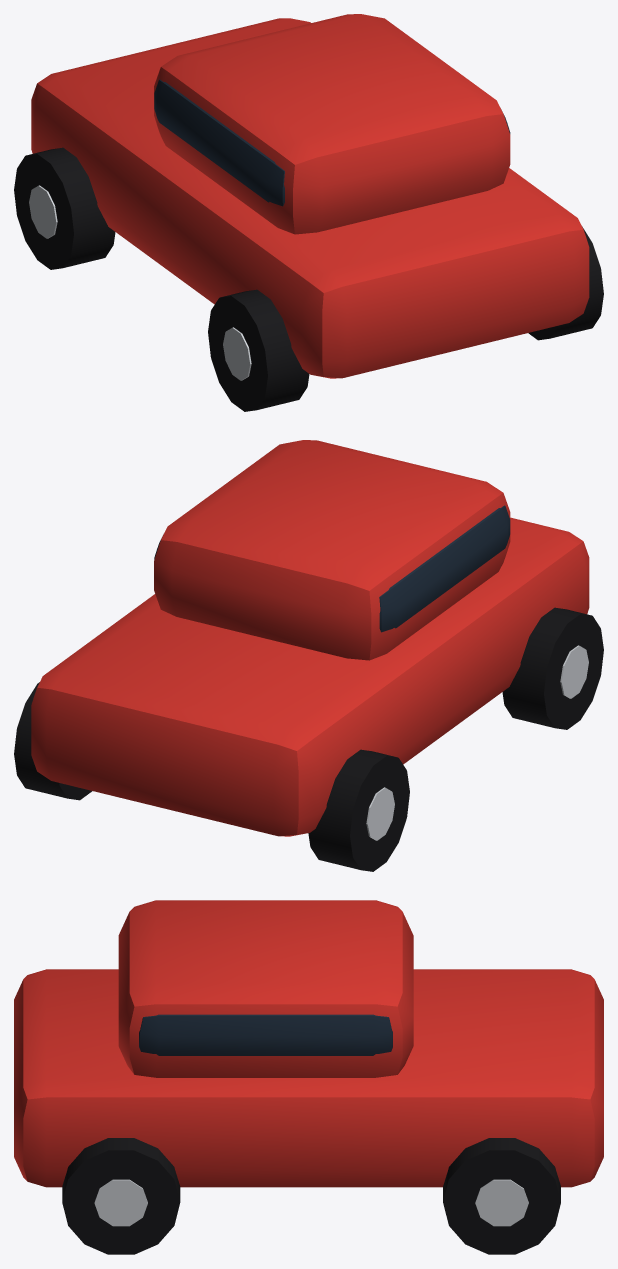
File: toy_car.glb
3 renders of one model, top to bottom at view 1: azimuth 30°, elevation 25°; view 2: azimuth 150°, elevation 25°; view 3: azimuth 270°, elevation 25°, orthographic.
Parts seen in each view (by area): view 1: toy_car; view 2: toy_car; view 3: toy_car.
Boxes of the visible parts, x1,y1,x2,y2 form: toy_car: (14, 14, 603, 411); toy_car: (14, 440, 603, 871); toy_car: (14, 900, 603, 1254).
Size of the model in its own units: 0.075 by 0.05 by 0.1152.
